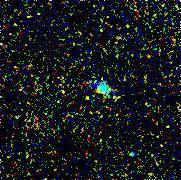star: (72, 83, 102, 113)
